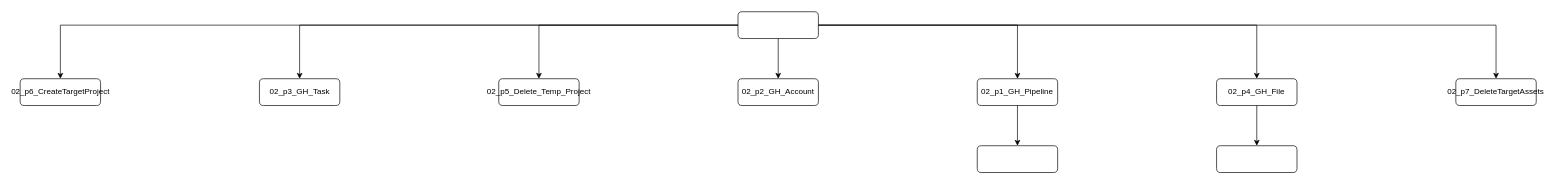
This 1556x184 diagram has some shape labels left out. The centre of each missing label's shape, as x and y in pixels:
"01_p1_Main_GH_to_SL" belongs at (777,25).
"03_p1_GH_Pipeline_Create" belongs at (1017,159).
"03_p4_GH_File_Create" belongs at (1256,159).
